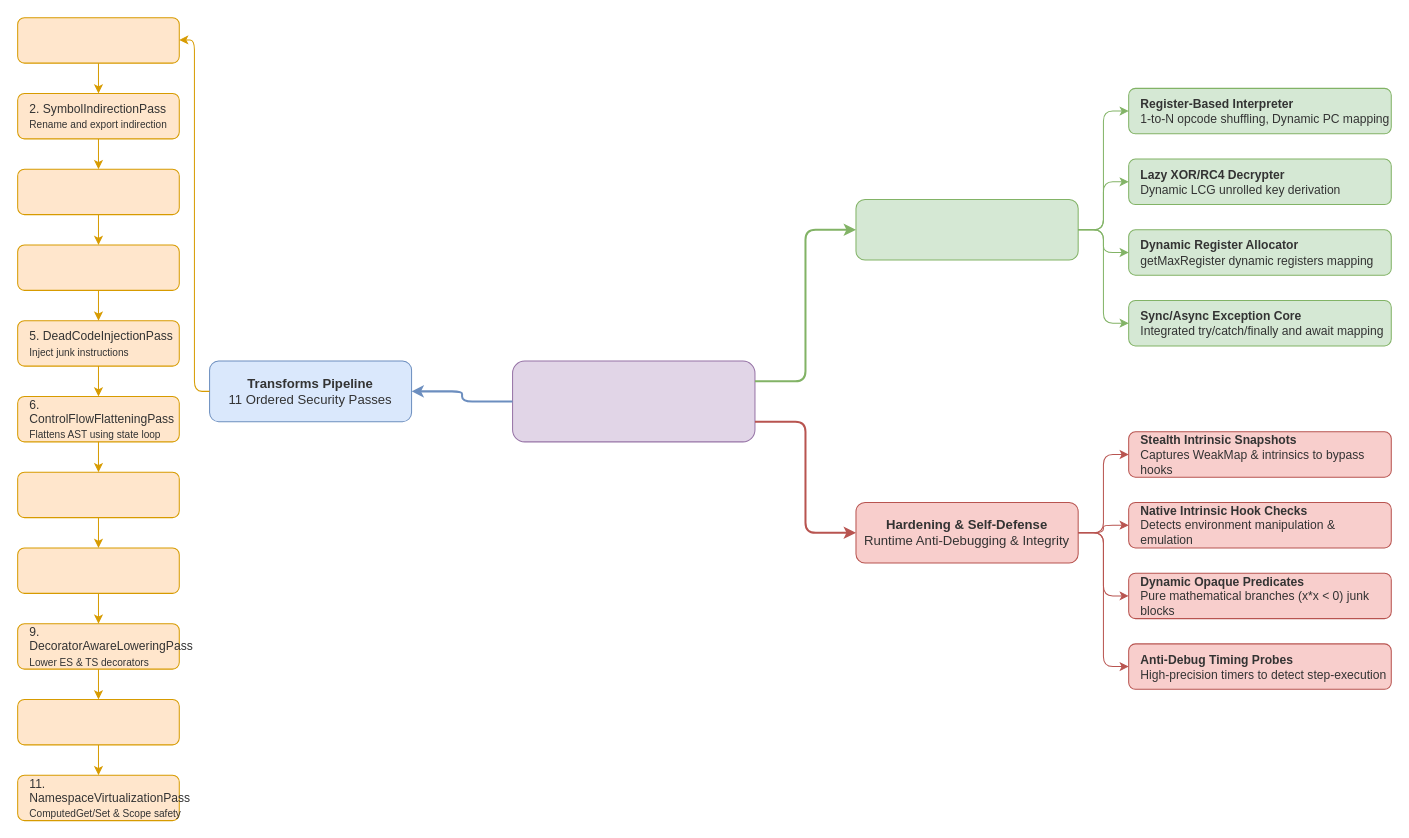
This 1409x838 diagram has some shape labels left out. Here are the shapes that lost their labels. From the top down, the centre of each, then its label:
At point (98, 40): "1. StripDebugPass Removes console.* literals".
At point (98, 191): "3. StringPoolEncodingPass Lazy dynamic XOR/RC4 decode".
At point (966, 229): "Virtual Machine Runtime Secure Polymorphic Interpreter".
At point (98, 267): "4. FunctionVirtualizationPass AST to Register-Based IR".
At point (633, 401): "TSXobf Professional-Grade Obfuscation Ecosystem Next-Gen VM Compiler Backend".
At point (98, 494): "7. PreserveTypeIllusionsPass Fake dynamic type guards".
At point (98, 570): "8. TypeLevelFakePathPass Opaque mathematical predicates".
At point (98, 721): "10. GenericConfusionPass Runtime generic type dispatch".
